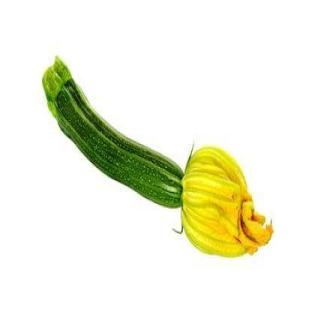Zucchini: (43, 58, 183, 207)
